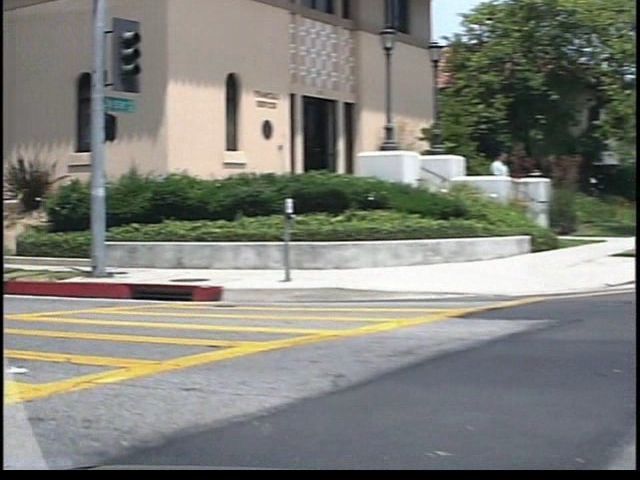person: (471, 142, 496, 221)
